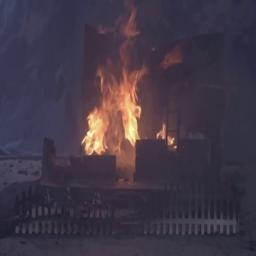fire: (71, 56, 167, 159)
